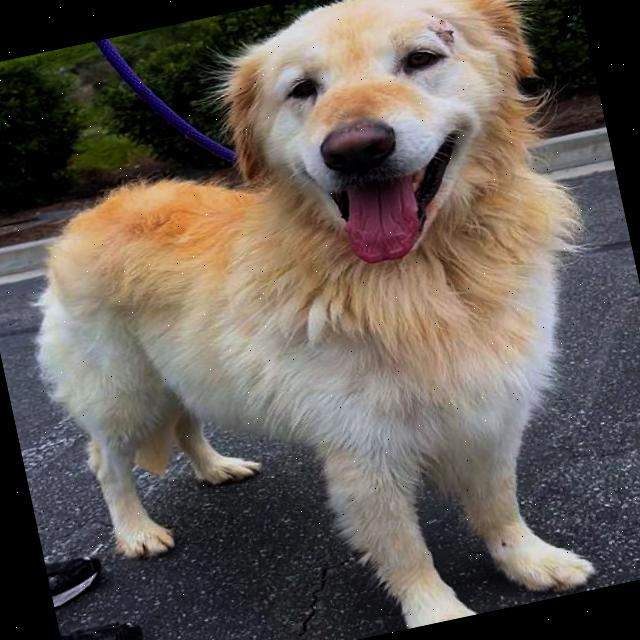golden_retriever_dog: (176, 0, 603, 317)
